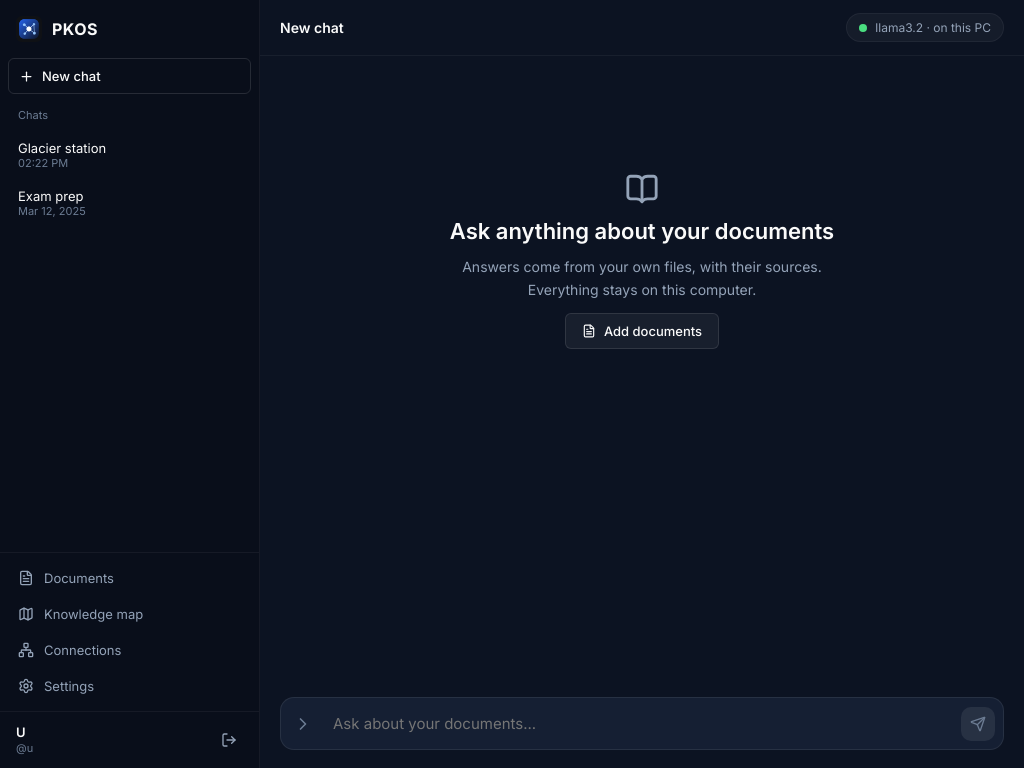
chat list › renames a chat inline
Expected: the navigation bar "PKOS" is shown, [0,0,260,767]
Hover over the text "Exam prep".
mouse_move(51, 196)  # box [18,188,83,204]
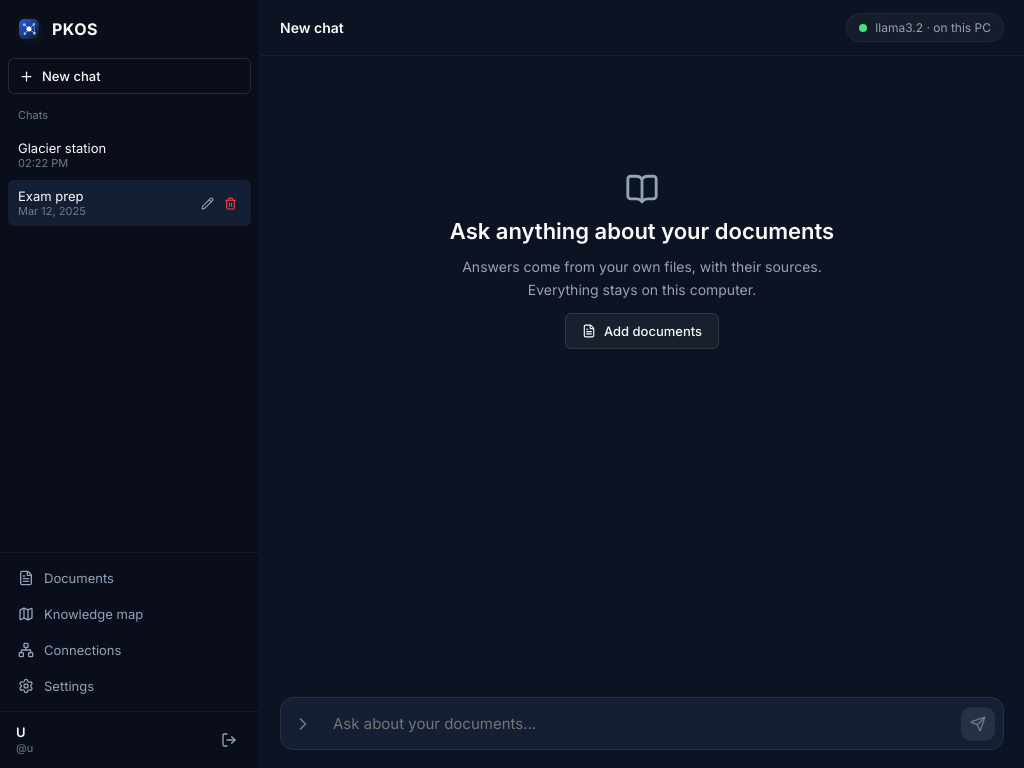
Click the button named "Rename Exam prep".
click(208, 203)  # box [197,192,218,214]
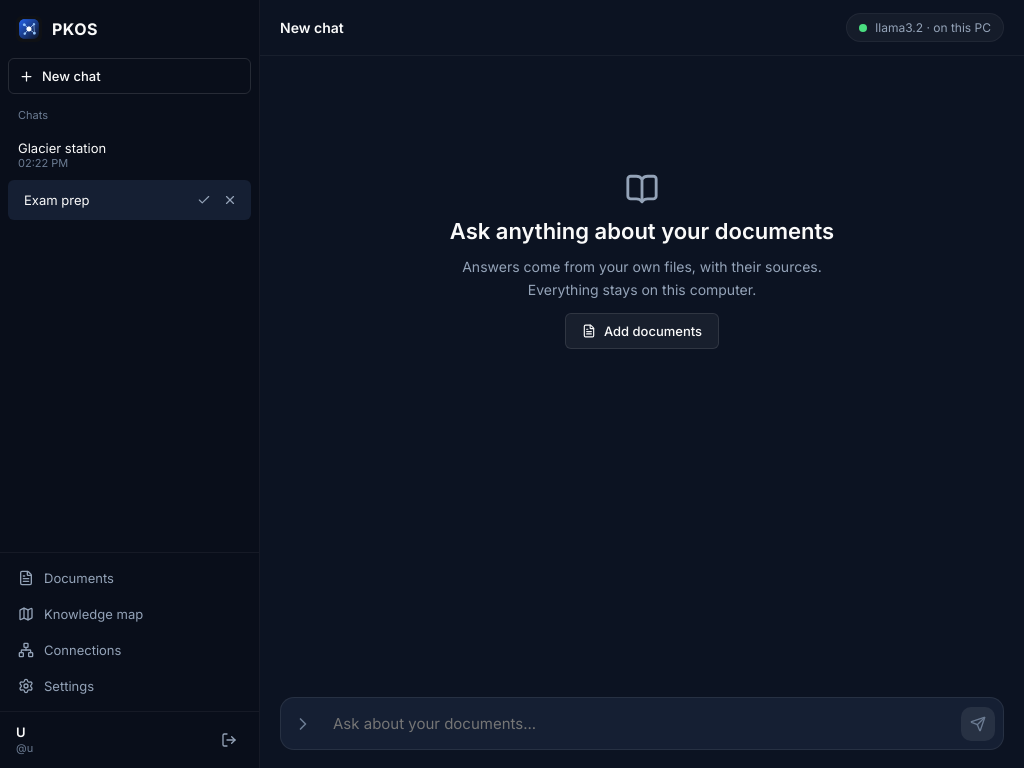
Replace the text in the field named "Chat title" with "GATE revision" at (104, 200), box [18,188,189,212]
Then press Enter
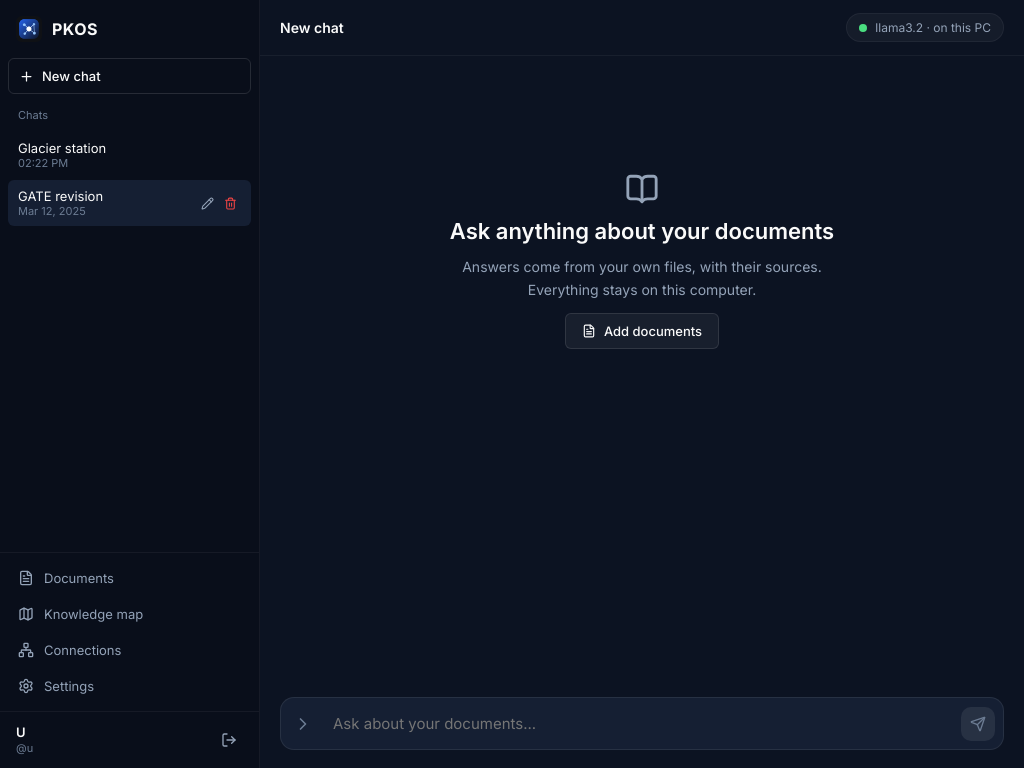
Now the text "GATE revision" is shown, box [18,188,103,204]
